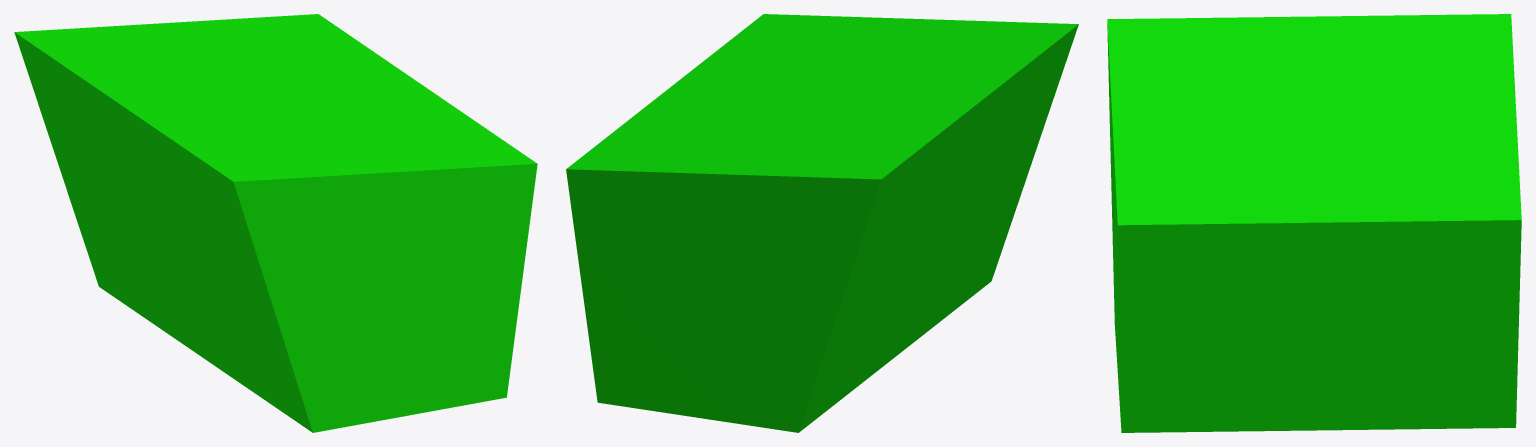
Rendered from sm_castle_031.fbx.
The picture shows the model from 3 angles, left to right: view 1: azimuth 30°, elevation 25°; view 2: azimuth 150°, elevation 25°; view 3: azimuth 270°, elevation 25°; orthographic projection. The views are drawn at different scales.
Parts seen in each view (by area): view 1: sm_castle.031; view 2: sm_castle.031; view 3: sm_castle.031.
Part boxes in pixels (<box>): sm_castle.031: <box>14,14,537,432</box>; sm_castle.031: <box>566,14,1078,432</box>; sm_castle.031: <box>1107,14,1521,432</box>.
Bounding box in the file's own units: 265 × 229 × 306.
